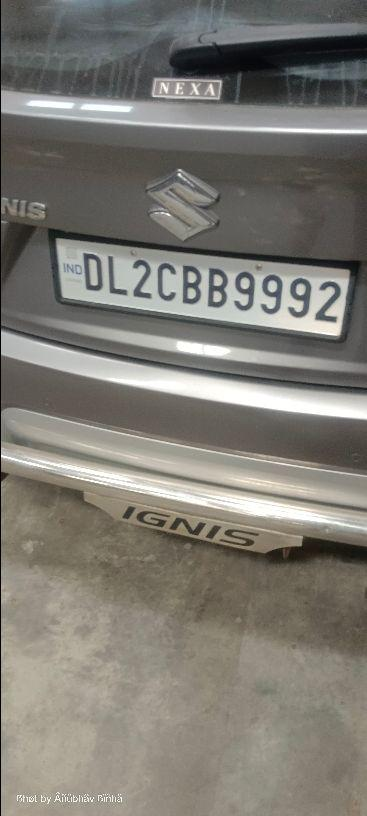license_plate: (47, 227, 359, 342), (81, 489, 304, 556)
